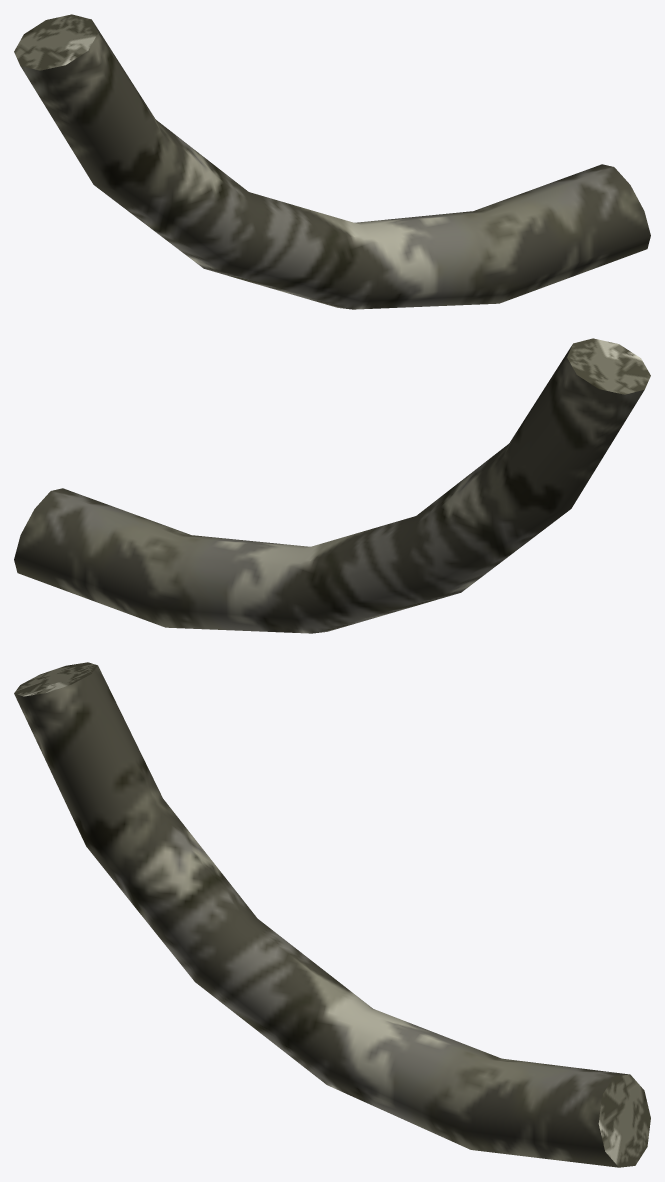
File: Medallion03.fbx
3 views of the same model, one above another, from view 1: azimuth 30°, elevation 25°; view 2: azimuth 150°, elevation 25°; view 3: azimuth 330°, elevation 25° (orthographic).
Parts seen in each view (by area): view 1: Medalion03; view 2: Medalion03; view 3: Medalion03.
Part boxes in pixels (left/top/right/bottom): Medalion03: left=14, top=14, right=650, bottom=309; Medalion03: left=14, top=338, right=650, bottom=633; Medalion03: left=14, top=662, right=650, bottom=1167.
Bounding box in the file's own units: 1.02 × 0.5967 × 0.132.
